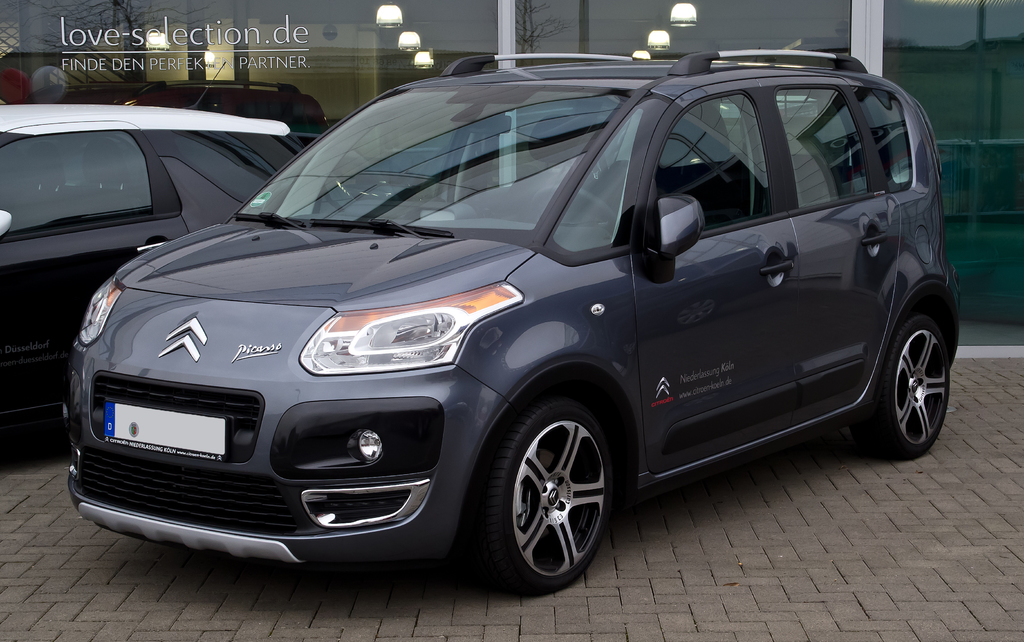Car: (50, 33, 968, 597), (0, 103, 305, 440), (139, 70, 325, 131)
